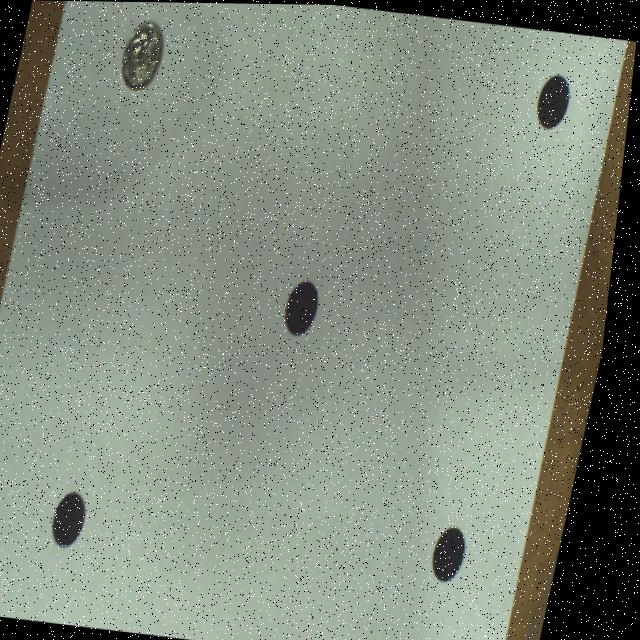head1bath: (123, 21, 164, 89)
space: (444, 524, 478, 579), (291, 280, 325, 334), (64, 491, 97, 546), (539, 73, 571, 127)
